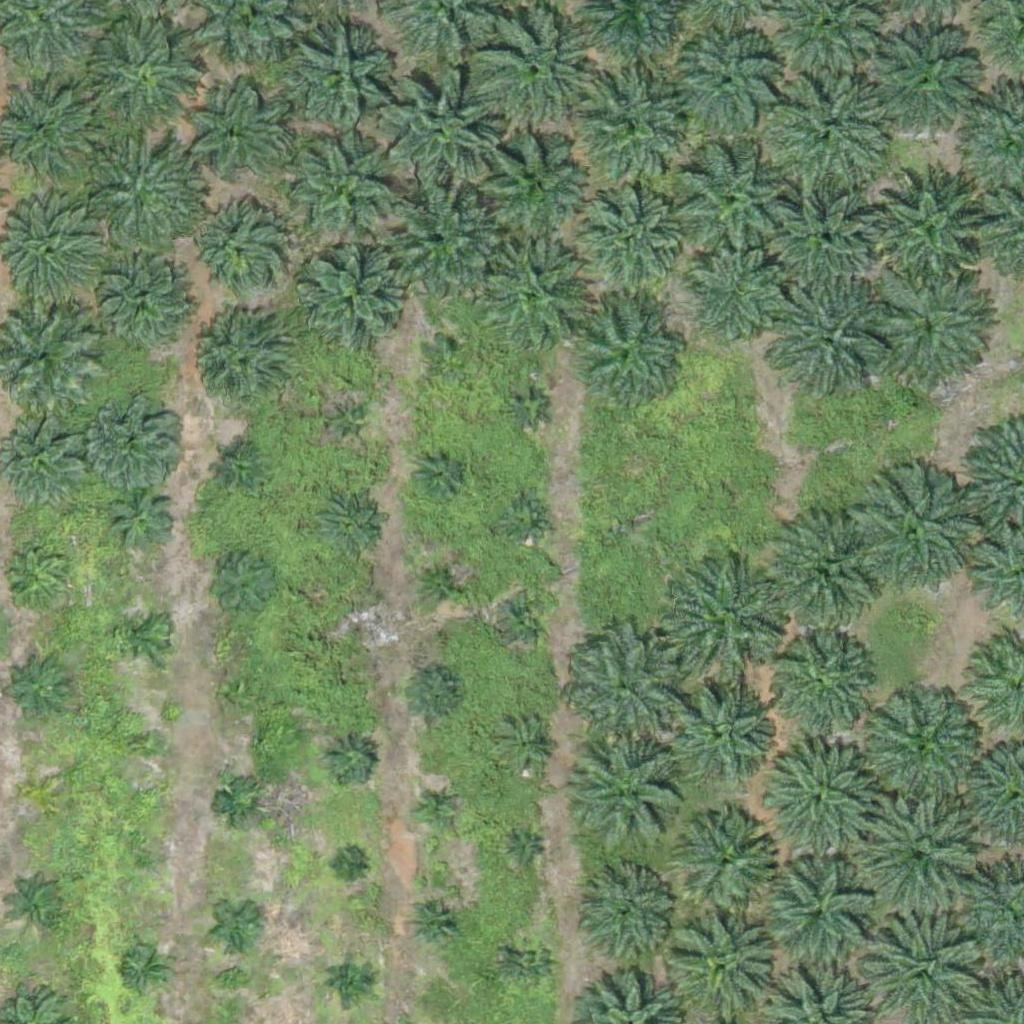Kelapa_Sawit: (282, 130, 407, 256), (378, 74, 503, 200), (378, 189, 503, 315), (475, 4, 600, 130), (465, 117, 590, 243), (666, 141, 791, 267), (770, 69, 895, 195), (766, 277, 891, 403), (865, 162, 990, 288), (869, 266, 994, 392), (850, 473, 975, 599), (667, 558, 792, 684), (857, 791, 982, 917), (859, 681, 984, 807), (84, 131, 209, 256), (567, 178, 680, 292), (579, 71, 692, 185), (680, 240, 793, 354), (769, 512, 882, 626), (87, 17, 200, 130), (299, 245, 412, 358), (571, 297, 684, 410), (866, 25, 979, 138), (759, 739, 872, 852), (758, 856, 871, 969), (281, 19, 393, 132), (478, 245, 590, 358), (672, 29, 784, 142), (764, 185, 876, 298), (568, 631, 680, 744), (577, 737, 689, 850), (94, 255, 194, 356), (184, 83, 284, 184), (186, 200, 286, 301), (184, 313, 284, 414), (670, 681, 770, 782), (676, 809, 776, 910), (89, 390, 189, 491), (769, 630, 869, 730), (586, 871, 673, 959), (2, 423, 89, 511), (203, 546, 278, 621), (8, 658, 71, 721), (401, 663, 464, 726), (11, 875, 73, 938), (319, 494, 381, 557), (110, 485, 172, 548), (8, 548, 70, 611), (500, 720, 550, 771), (116, 608, 166, 659), (323, 733, 373, 784), (416, 555, 466, 606), (505, 938, 555, 988), (325, 955, 375, 1005), (213, 900, 263, 950), (120, 943, 170, 993), (414, 446, 464, 496), (215, 780, 265, 830), (500, 593, 550, 643), (503, 383, 553, 433), (499, 494, 549, 544), (319, 398, 369, 448), (422, 329, 472, 379), (411, 783, 461, 833), (410, 897, 460, 947), (223, 676, 261, 714), (221, 452, 259, 489), (346, 609, 371, 634), (512, 838, 537, 863), (335, 852, 360, 877), (134, 845, 159, 870), (134, 729, 159, 754), (29, 783, 54, 808)
